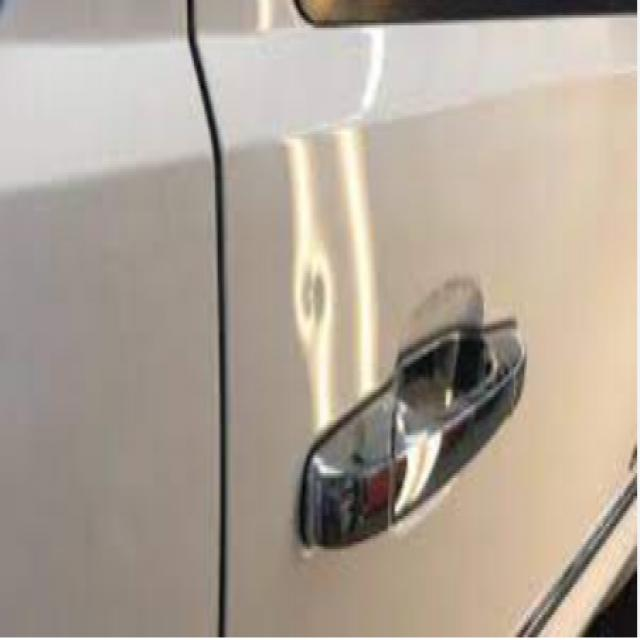dents: (286, 238, 331, 340)
